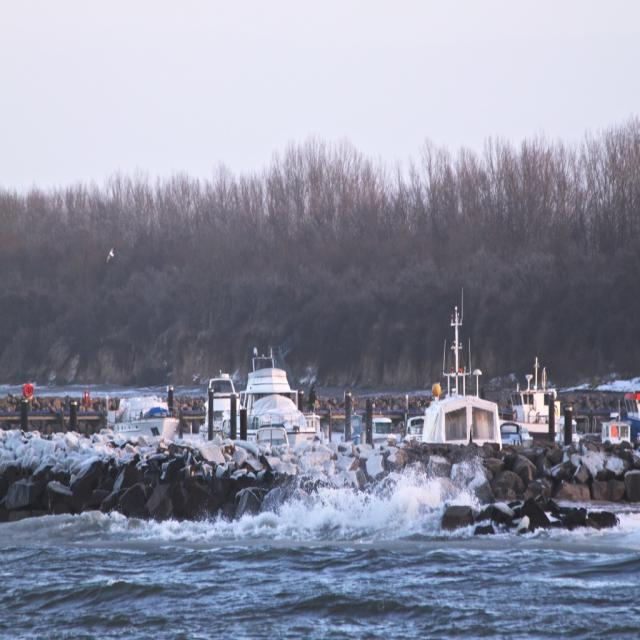Boat: (418, 290, 504, 444), (235, 343, 318, 443), (502, 356, 569, 438), (200, 368, 244, 440), (109, 396, 181, 439), (361, 410, 398, 444), (596, 414, 634, 444)
